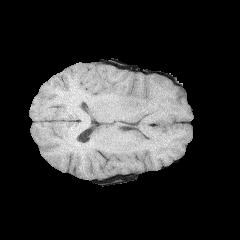glioma: (118, 72, 176, 119)
